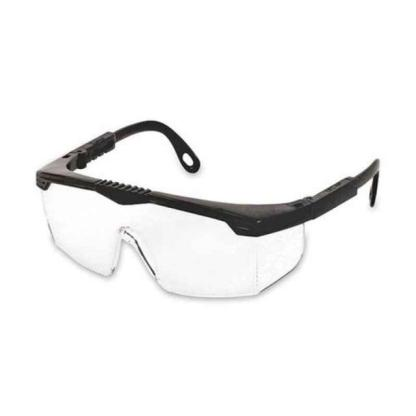oculos: (0, 118, 416, 304)
